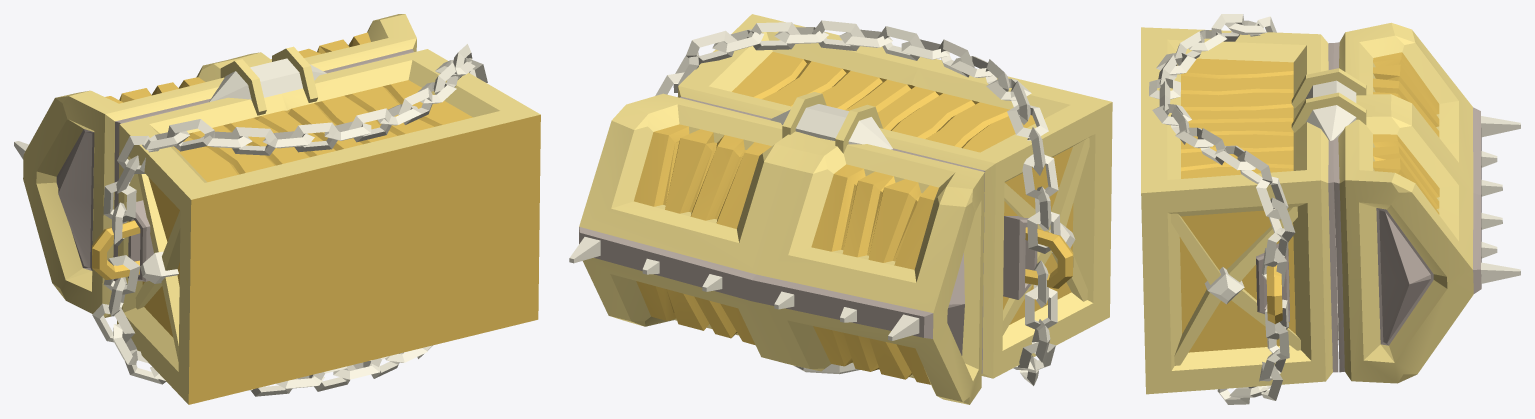
The model's file is Legendary.fbx.
3 views of the same model, side by side, from view 1: azimuth 30°, elevation 25°; view 2: azimuth 150°, elevation 25°; view 3: azimuth 270°, elevation 25° (orthographic). The views are drawn at different scales.
Visible parts, largest first — view 1: Treasure_Chest_4a, Opened_6; view 2: Opened_6, Treasure_Chest_4a; view 3: Treasure_Chest_4a, Opened_6.
Boxes of the visible parts, box(x1,y1,x2,y2) form: Treasure_Chest_4a: box(92, 44, 540, 404); Opened_6: box(14, 14, 416, 317); Opened_6: box(569, 93, 984, 404); Treasure_Chest_4a: box(655, 14, 1112, 385); Treasure_Chest_4a: box(1141, 14, 1366, 404); Opened_6: box(1333, 22, 1520, 383).
Size of the model in its own units: 105 by 68.76 by 86.64.
